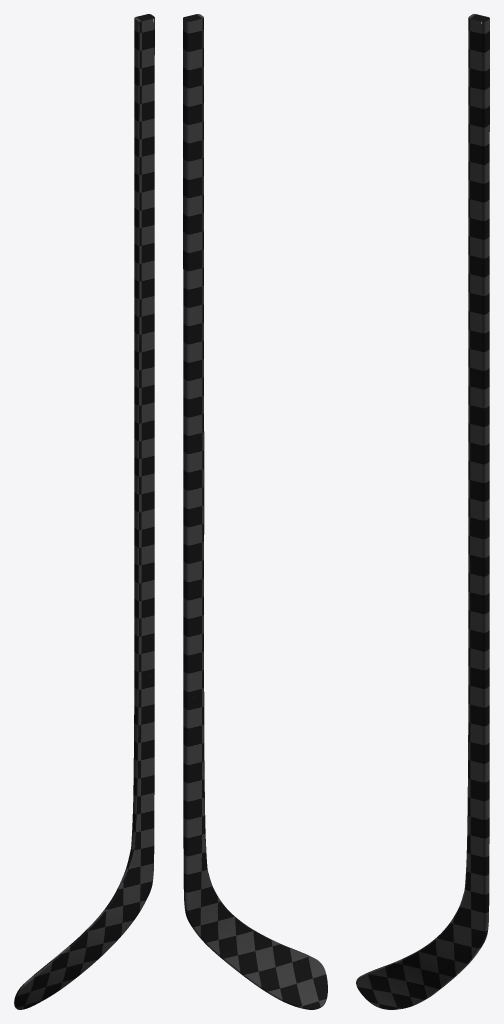
3 renders of one model, left to right at view 1: azimuth 30°, elevation 25°; view 2: azimuth 210°, elevation 25°; view 3: azimuth 330°, elevation 25°, orthographic. The views are drawn at different scales.
Parts seen in each view (by area): view 1: geometry_0; view 2: geometry_0; view 3: geometry_0.
Boxes of the visible parts, left/top/right/bottom form: geometry_0: left=14, top=14, right=154, bottom=1009; geometry_0: left=183, top=14, right=327, bottom=1009; geometry_0: left=356, top=14, right=489, bottom=1009.
Size of the model in its own units: 231 by 1650 by 58.1.
Materials: 1 (1 with a texture image).
